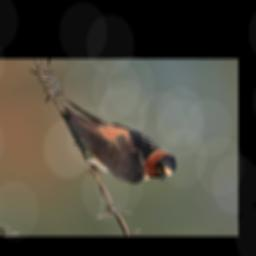Swallow: (51, 81, 186, 194)
